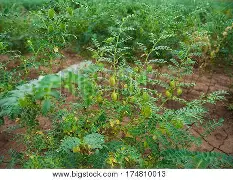crops: (0, 0, 231, 167), (130, 0, 203, 46), (93, 10, 143, 70), (0, 116, 51, 164), (0, 5, 47, 52), (172, 90, 227, 123), (54, 134, 109, 166), (96, 64, 141, 100), (152, 114, 198, 148), (156, 145, 230, 166), (147, 71, 191, 105), (105, 141, 142, 166), (186, 28, 214, 61), (32, 73, 62, 100), (97, 112, 126, 136), (0, 92, 27, 117), (78, 71, 96, 106), (110, 1, 143, 19), (59, 111, 81, 135), (174, 54, 195, 69), (67, 0, 87, 11)
